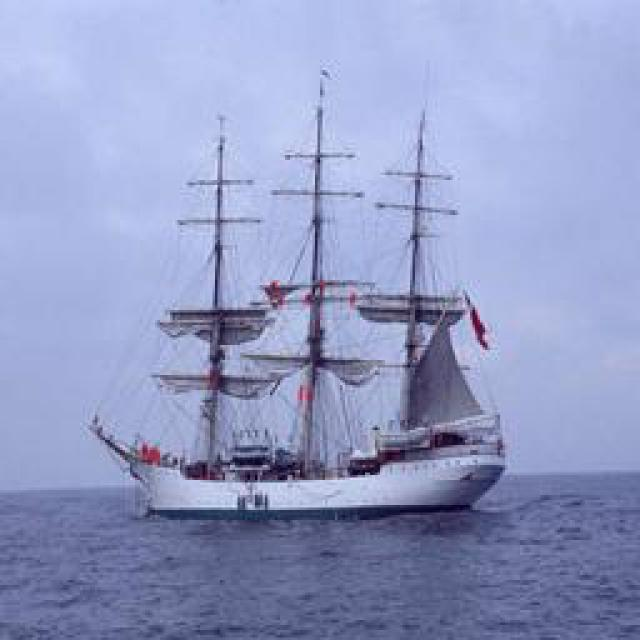Ship: (106, 66, 511, 526)
